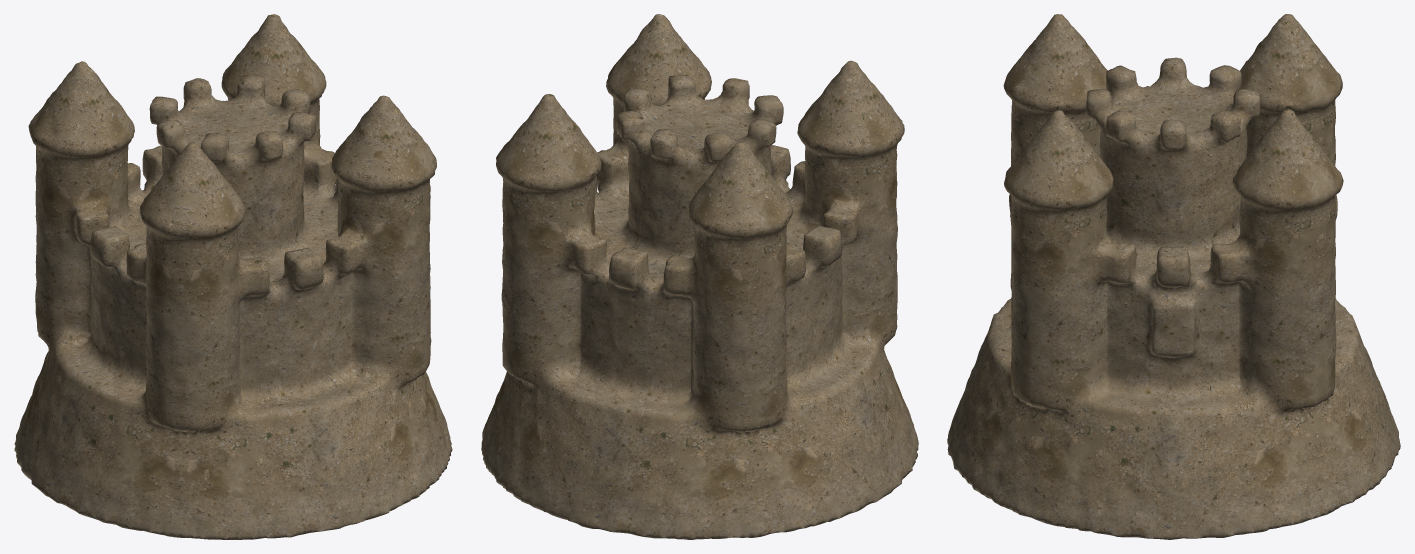
Rendered from sandcastle.glb.
3 renders of one model, left to right at view 1: azimuth 30°, elevation 25°; view 2: azimuth 150°, elevation 25°; view 3: azimuth 270°, elevation 25°, orthographic. The views are drawn at different scales.
Parts seen in each view (by area): view 1: Cone; view 2: Cone; view 3: Cone.
Part boxes in pixels (left/top/right/bottom): Cone: left=14, top=14, right=452, bottom=539; Cone: left=481, top=14, right=918, bottom=539; Cone: left=947, top=14, right=1400, bottom=539.
Size of the model in its own units: 1.23 by 1.16 by 1.23.
1 material, 1 textured.
